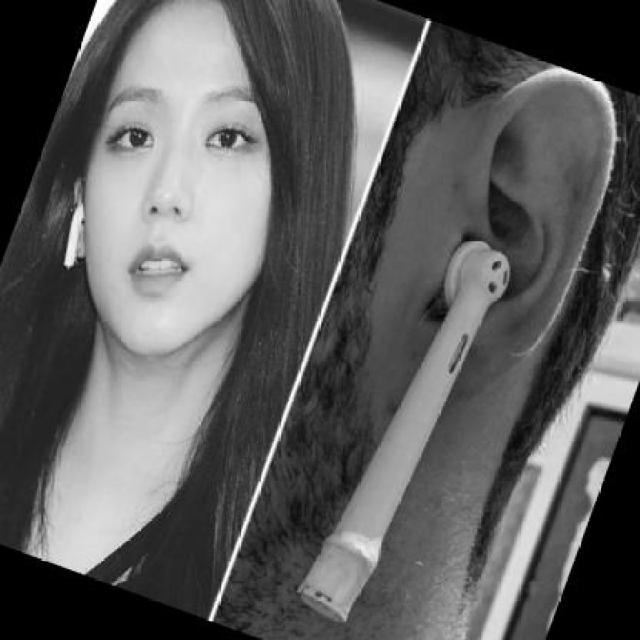earphone: (299, 231, 530, 640), (48, 176, 99, 292)
